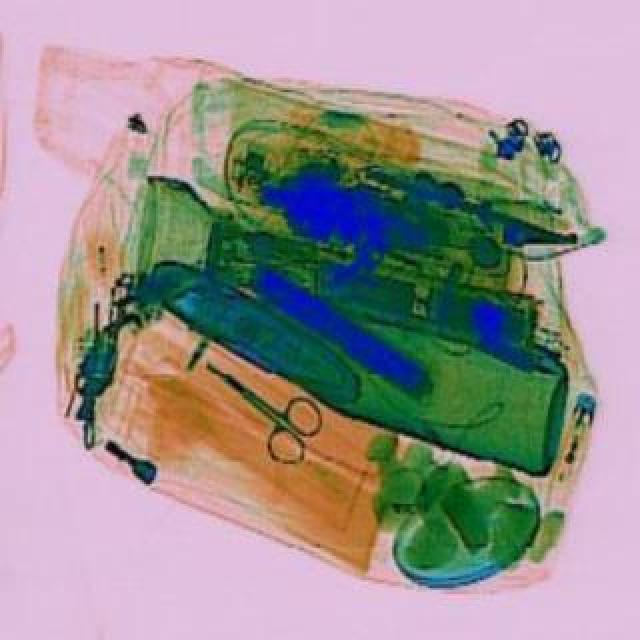pliers: (190, 342, 338, 470)
